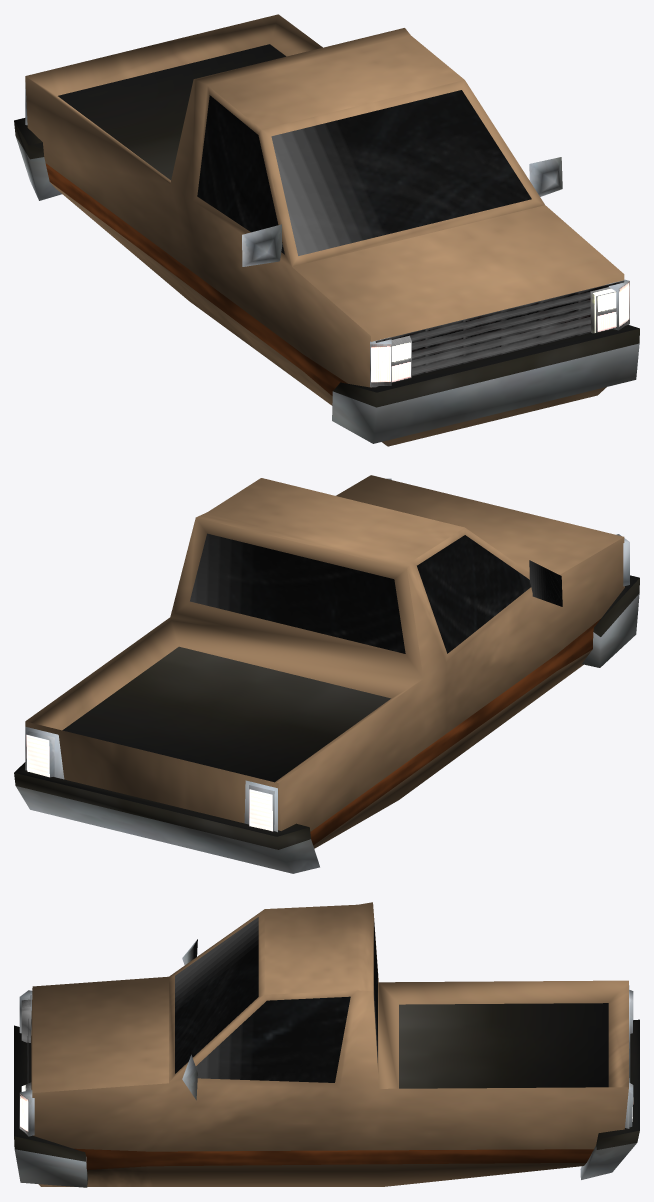
File: EnemyCar_4_v2.fbx
The picture shows the model from 3 angles, top to bottom: view 1: azimuth 30°, elevation 25°; view 2: azimuth 150°, elevation 25°; view 3: azimuth 270°, elevation 25°; orthographic projection. The views are drawn at different scales.
Parts seen in each view (by area): view 1: Pickup.002; view 2: Pickup.002; view 3: Pickup.002.
Boxes of the visible parts, left/top/right/bottom form: Pickup.002: left=14, top=14, right=639, bottom=446; Pickup.002: left=14, top=475, right=639, bottom=873; Pickup.002: left=14, top=902, right=639, bottom=1187.
Bounding box in the file's own units: 75.86 × 51.35 × 149.
